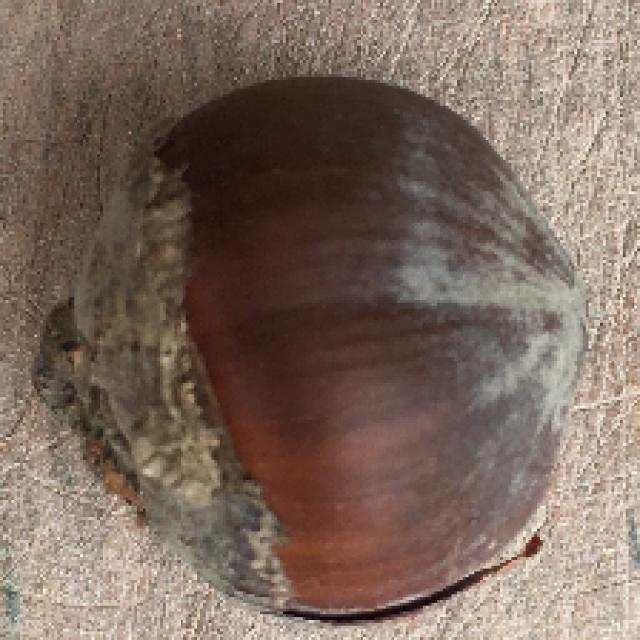DamagedHazelnut: (28, 81, 589, 617)
